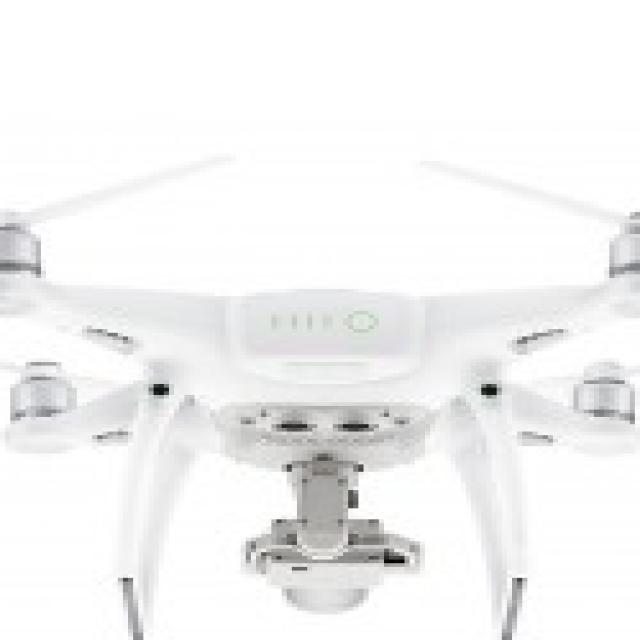drone: (0, 172, 640, 505)
